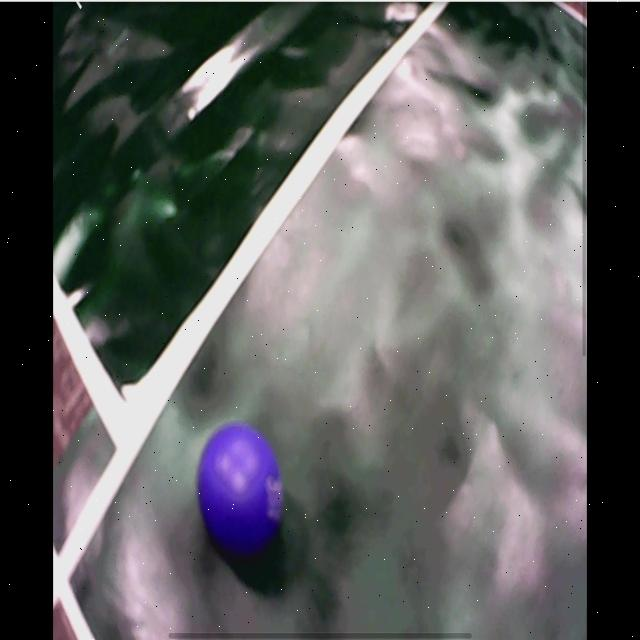ball: (197, 424, 286, 551)
